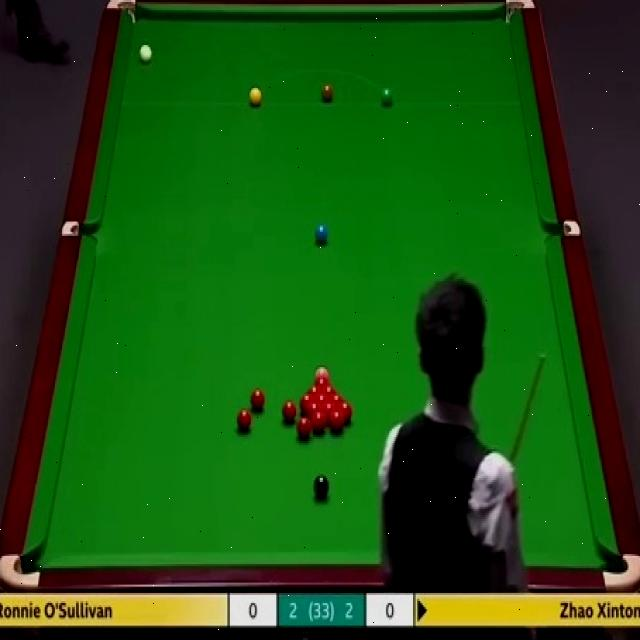black-ball: (313, 471, 329, 500)
blue-ball: (313, 222, 329, 247)
brown-ball: (321, 85, 333, 103)
green-ball: (381, 87, 393, 106)
pink-ball: (314, 363, 330, 380)
red-ball: (249, 386, 268, 412), (281, 399, 296, 425), (313, 409, 329, 433), (298, 416, 314, 440), (336, 401, 354, 421), (329, 410, 345, 432), (236, 408, 251, 430), (306, 401, 322, 416), (323, 402, 337, 419), (320, 385, 339, 396), (300, 395, 313, 411), (328, 393, 346, 404), (314, 394, 330, 404), (313, 376, 330, 385), (305, 386, 321, 394)
white-ball: (135, 40, 155, 64)
yellow-ball: (248, 85, 263, 107)
